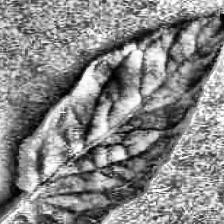leaf mold: (16, 8, 224, 224)
